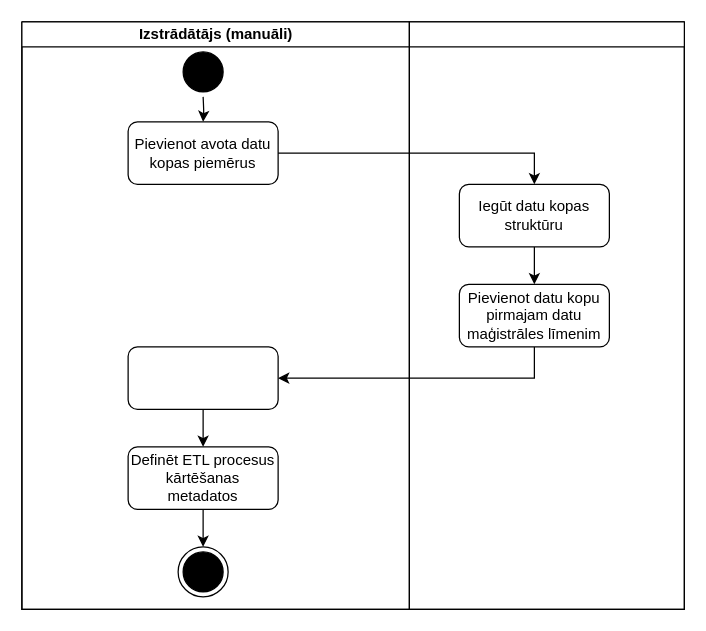
This 706x631 diagram has some shape labels left out. Here are the shapes that lost their labels. From the top down, the box of each, then its label:
(408, 21, 684, 609): Sistēma (automātiski)
(127, 346, 278, 409): Definēt citus datu maģistrāles līmeņus
